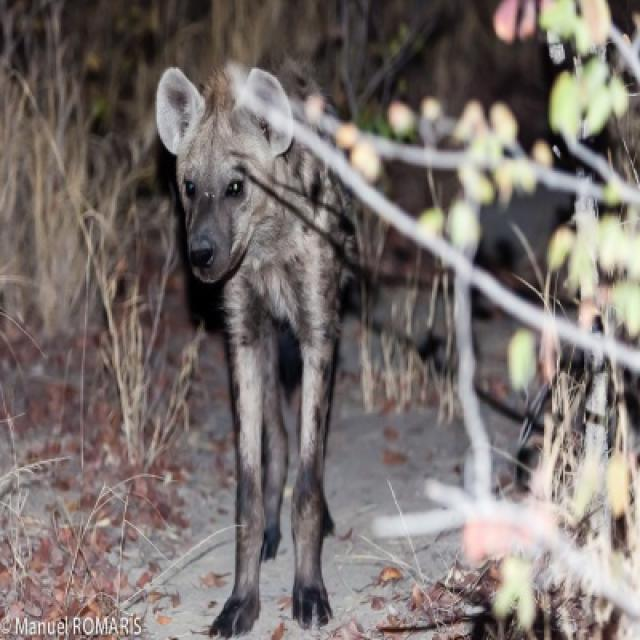hyena: (157, 66, 355, 632)
